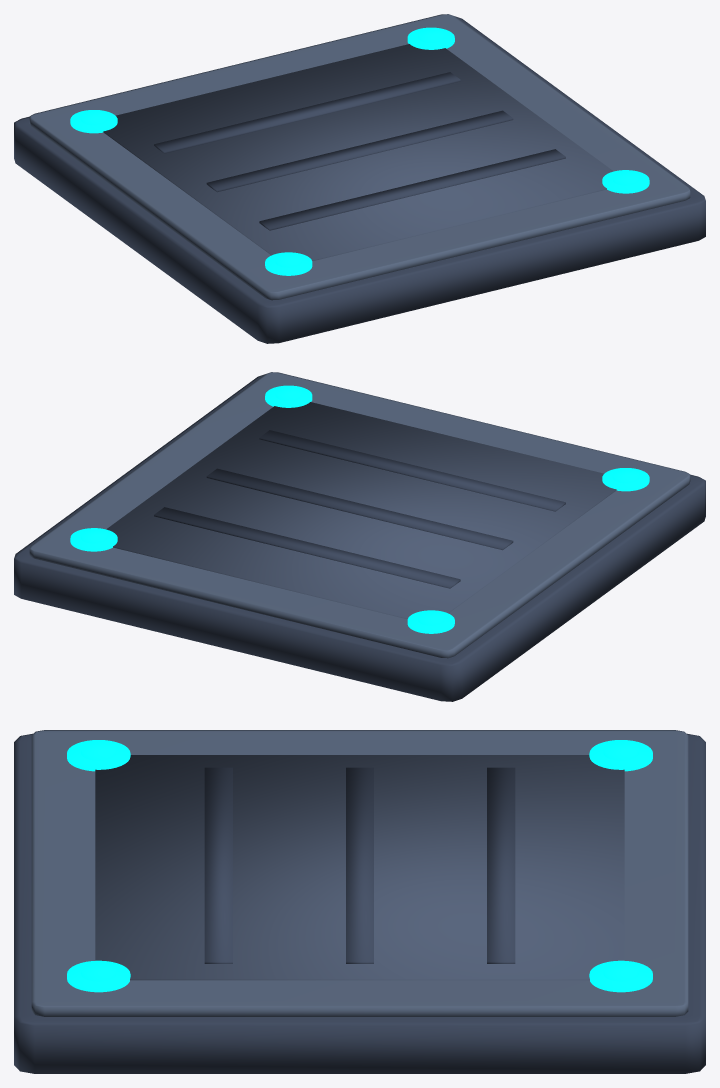
File: floor-tile.glb
3 views of the same model, one above another, from view 1: azimuth 30°, elevation 25°; view 2: azimuth 150°, elevation 25°; view 3: azimuth 270°, elevation 25° (orthographic). The views are drawn at different scales.
Visible parts, largest first — view 1: FloorTile; view 2: FloorTile; view 3: FloorTile.
Part boxes in pixels (bbox=[...]): FloorTile: bbox=[14, 14, 705, 343]; FloorTile: bbox=[14, 372, 705, 701]; FloorTile: bbox=[14, 730, 705, 1073].
Bounding box in the file's own units: 1.96 × 0.22 × 1.96.
